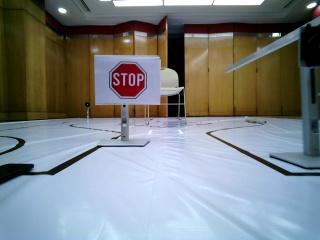stop: (99, 57, 151, 98)
